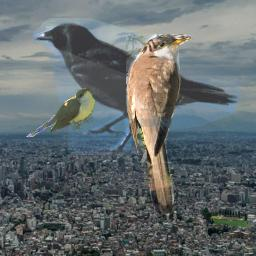Crow: (33, 18, 241, 155)
Cuckoo: (126, 34, 191, 215), (25, 88, 95, 137)
